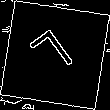L_SE: (27, 26, 83, 84)
